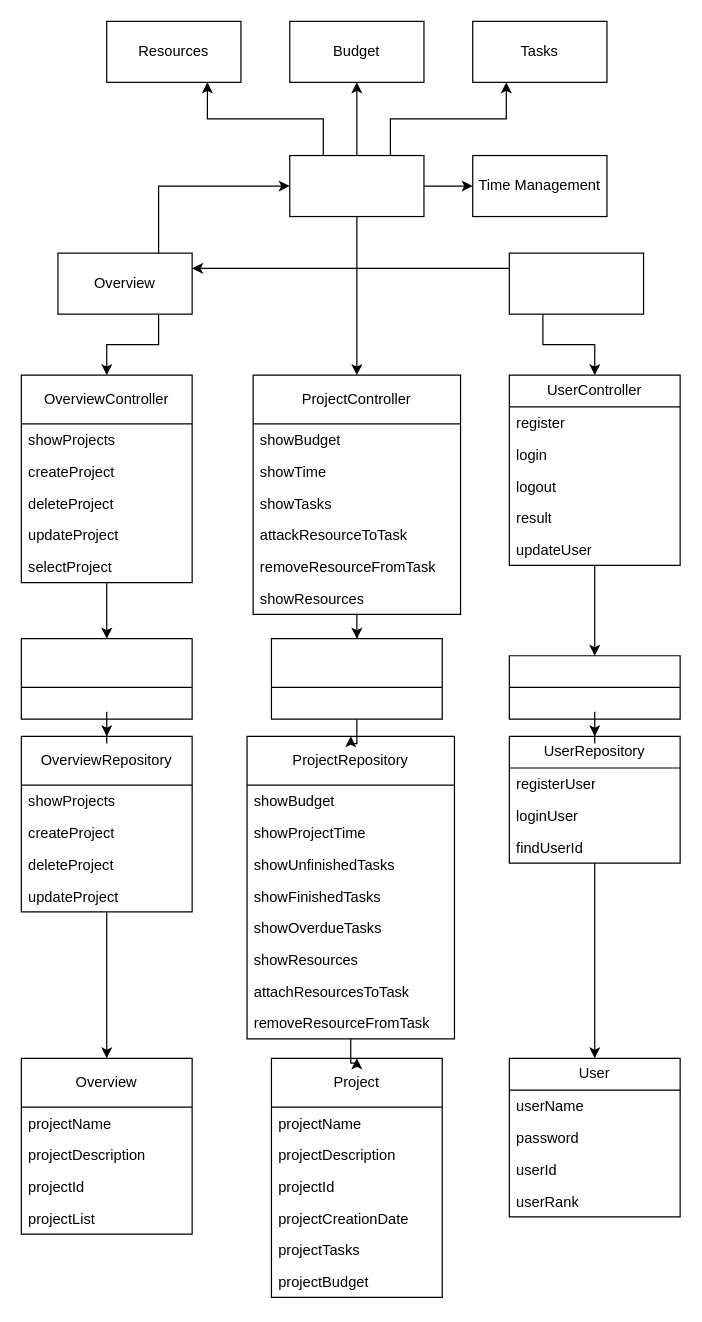
This 702x1322 diagram has some shape labels left out. The shapes that lost their labels are listed below. From the top down, each one's centre as x and y in pixels, then its label:
the point at 356,185: Dashboard
the point at 576,283: frontpage
the point at 106,678: OverviewService
the point at 356,678: ProjectService
the point at 594,687: UserService
